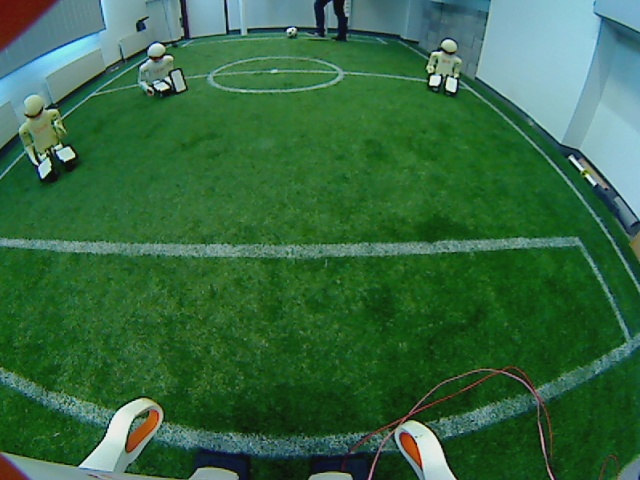ball: (280, 22, 302, 43)
robot: (15, 93, 79, 189), (136, 38, 191, 103), (423, 33, 467, 99)
